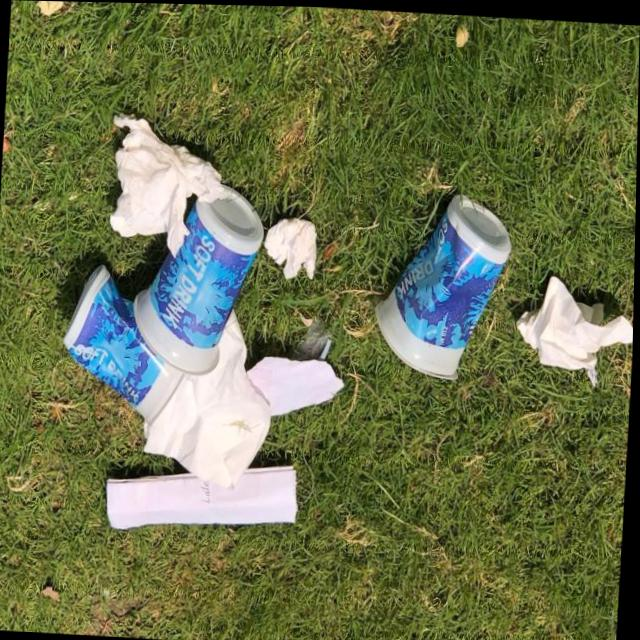food: (140, 329, 344, 485), (58, 255, 196, 429), (92, 108, 239, 251), (97, 453, 306, 546), (511, 262, 636, 398), (267, 210, 333, 281)
leaf: (369, 188, 526, 398), (131, 180, 264, 392)
